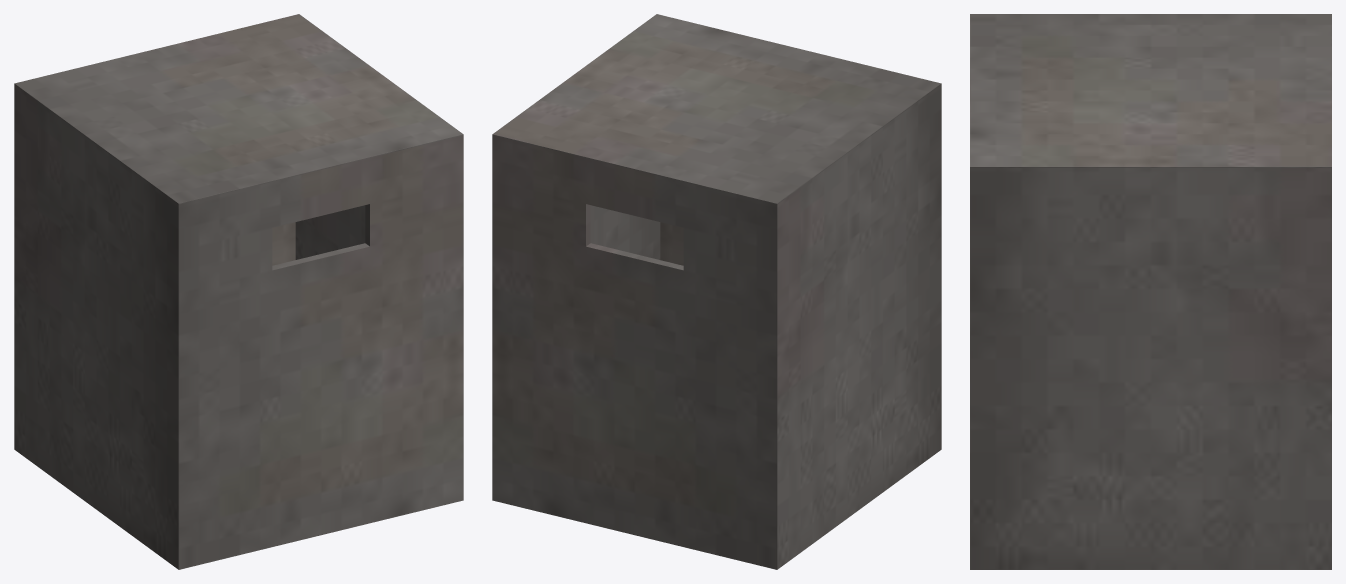
File: dessauchair_2_nocolor.fbx
3 renders of one model, left to right at view 1: azimuth 30°, elevation 25°; view 2: azimuth 150°, elevation 25°; view 3: azimuth 270°, elevation 25°, orthographic. The views are drawn at different scales.
Parts seen in each view (by area): view 1: dessau-set; view 2: dessau-set; view 3: dessau-set.
Part boxes in pixels (x1=…): dessau-set: x1=14, y1=14, x2=463, y2=569; dessau-set: x1=492, y1=14, x2=941, y2=569; dessau-set: x1=970, y1=14, x2=1331, y2=569.
Bounding box in the file's own units: 35 × 43 × 35.
1 material, 1 textured.
